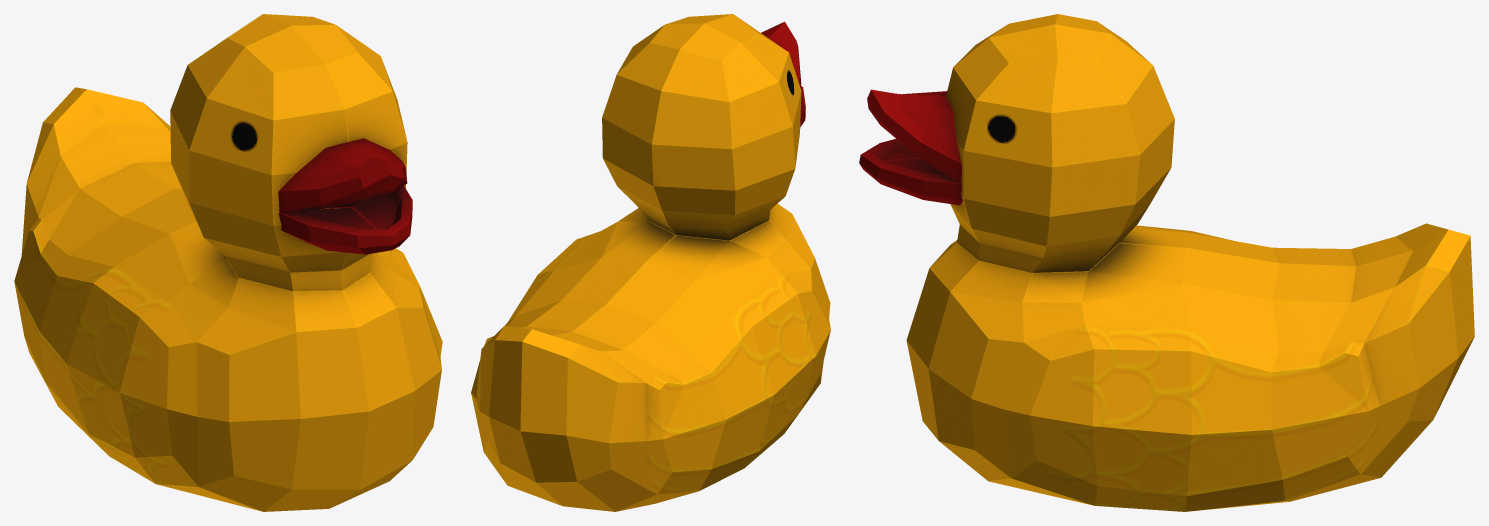
The model's file is misc-rubberDuck.glb.
3 renders of one model, left to right at view 1: azimuth 30°, elevation 25°; view 2: azimuth 150°, elevation 25°; view 3: azimuth 270°, elevation 25°, orthographic. The views are drawn at different scales.
Parts seen in each view (by area): view 1: node-0; view 2: node-0; view 3: node-0.
Boxes of the visible parts, x1,y1,x2,y2 form: node-0: (14, 14, 442, 511); node-0: (471, 14, 830, 511); node-0: (859, 14, 1474, 511).
Size of the model in its own units: 3.97 by 5.82 by 7.16.
Materials: 1 (1 with a texture image).
